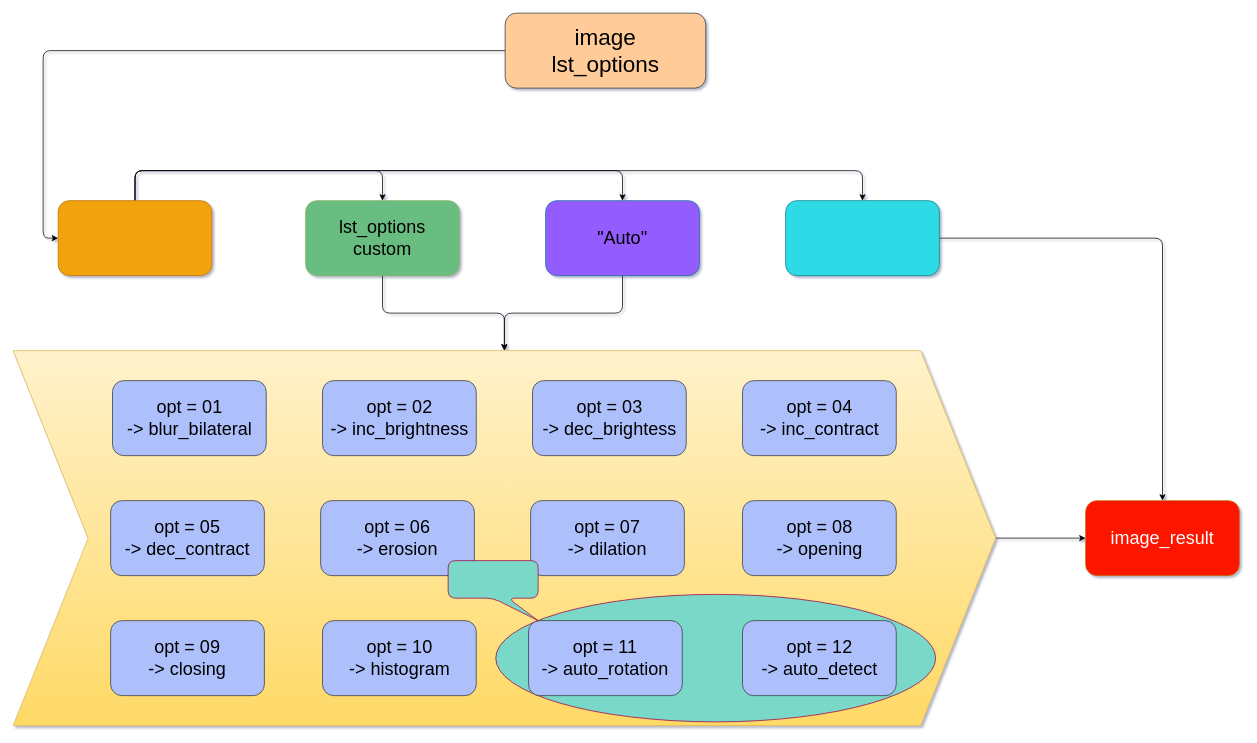
Some shapes in this 1257 by 743 pixel diagram are drawn without their labels. The shapes that lost their labels are listed below. From the top down, each one's box as (x1, y1, x2, y2) in pixels, then its label:
(57, 200, 212, 276): check lst_options -> img_processing
(785, 200, 939, 276): "None"
(447, 560, 538, 621): Auto
